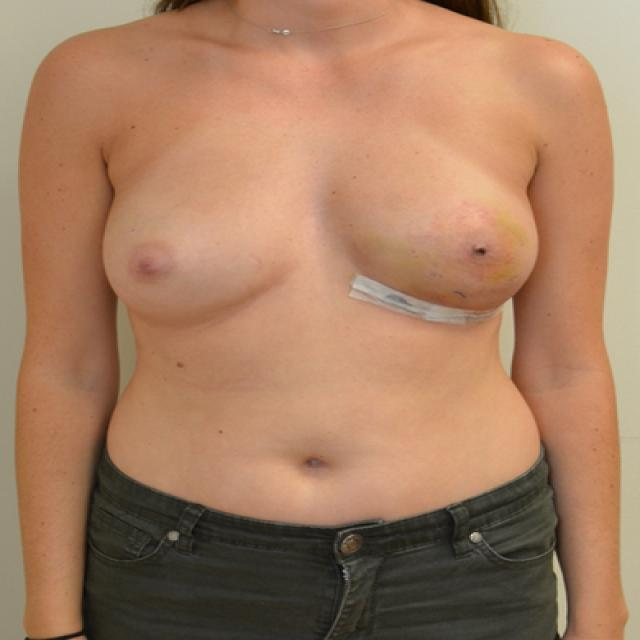Seno herido: (331, 171, 547, 330)
Seno ileso: (94, 171, 308, 331)
